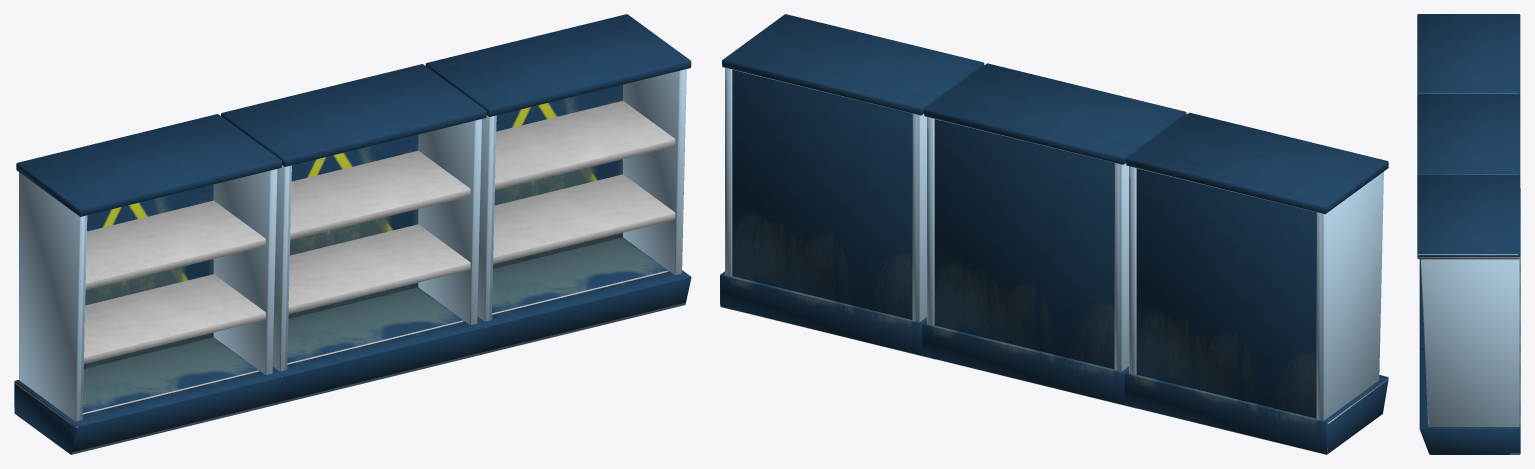
File: FrigoEmpty.fbx
The picture shows the model from 3 angles, left to right: view 1: azimuth 30°, elevation 25°; view 2: azimuth 150°, elevation 25°; view 3: azimuth 270°, elevation 25°; orthographic projection. The views are drawn at different scales.
Parts seen in each view (by area): view 1: FrigoEmpty; view 2: FrigoEmpty; view 3: FrigoEmpty.
Boxes of the visible parts, left/top/right/bottom form: FrigoEmpty: left=14, top=14, right=691, bottom=454; FrigoEmpty: left=720, top=14, right=1388, bottom=454; FrigoEmpty: left=1417, top=14, right=1520, bottom=454.
Size of the model in its own units: 843 by 328 by 153.
